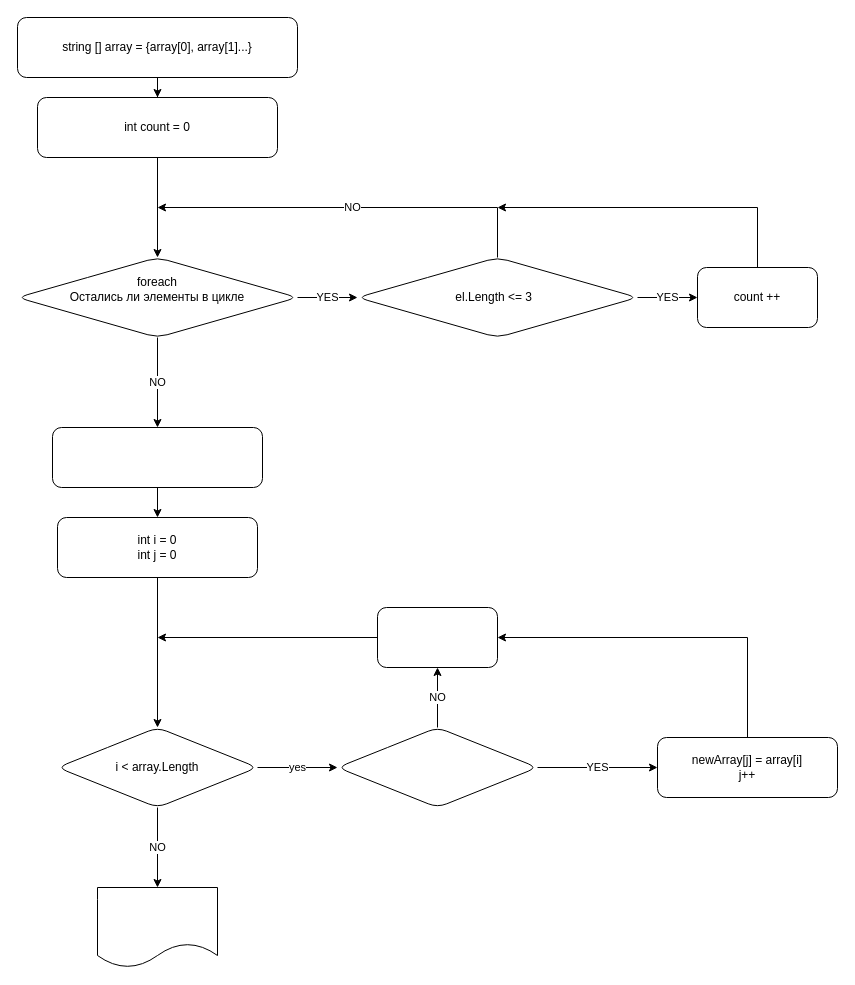
Image size: 855x985. Some labels were removed from this diagram. Here are the shapes that lost their labels. From the top down, the centre of each, then its label:
pixel 157 457: string [] newArray = new string [count]
pixel 437 637: i++
pixel 437 767: array[i].Length <= 3
pixel 157 927: вывод newArray
